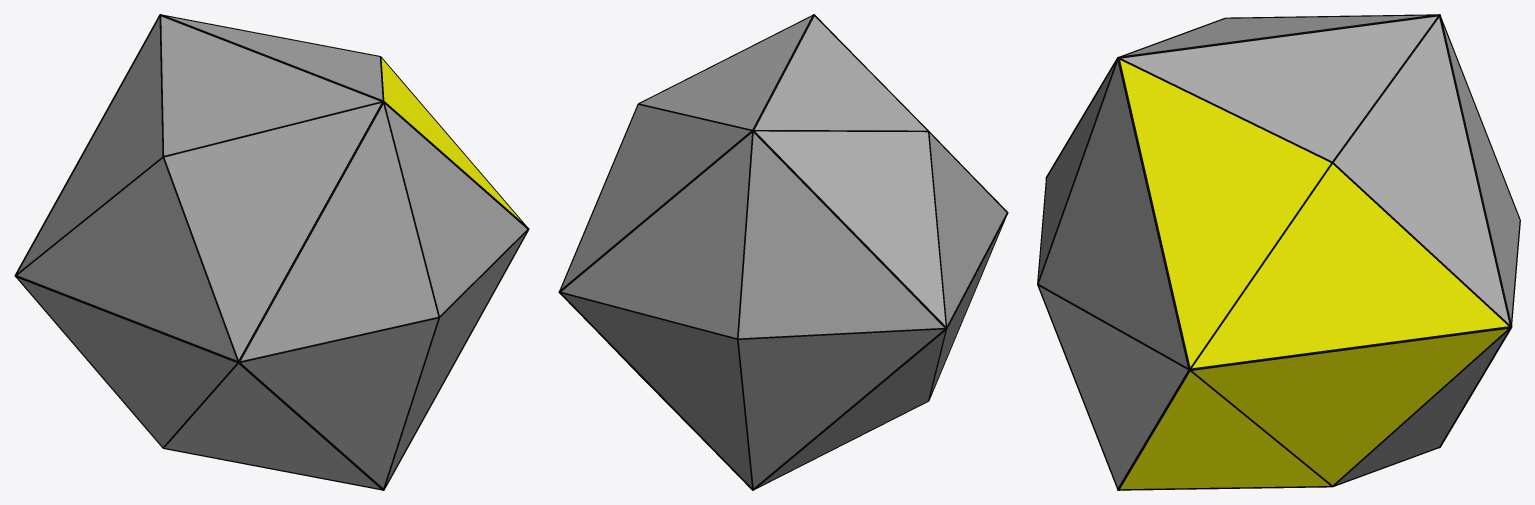
File: TetrakisHexahedron_2.glb
3 renders of one model, left to right at view 1: azimuth 30°, elevation 25°; view 2: azimuth 150°, elevation 25°; view 3: azimuth 270°, elevation 25°, orthographic. The views are drawn at different scales.
Bounding box in the file's own units: 3.51 × 3.02 × 3.05.
